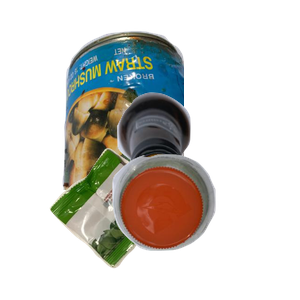glass: (115, 90, 300, 270)
metal: (60, 28, 300, 208)
plastic: (110, 152, 300, 300)
trash: (47, 146, 220, 300)
